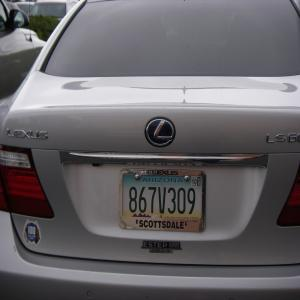Vehicle-registration-plate: (120, 167, 208, 235)
